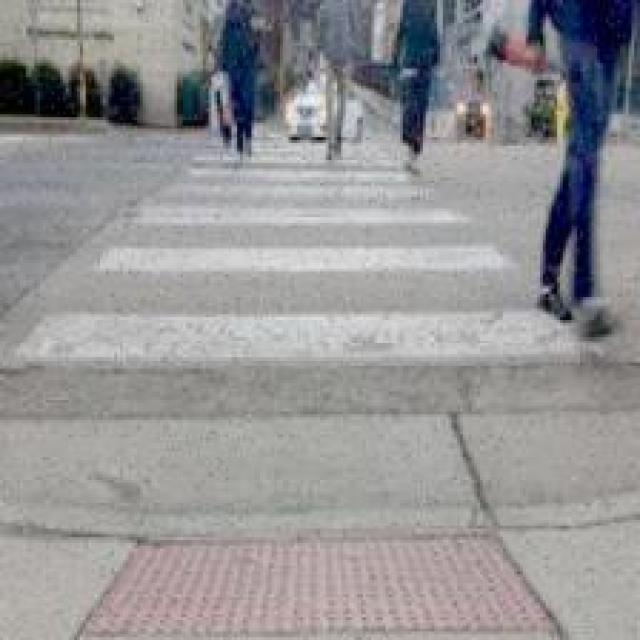walk-crossing: (23, 138, 558, 384)
